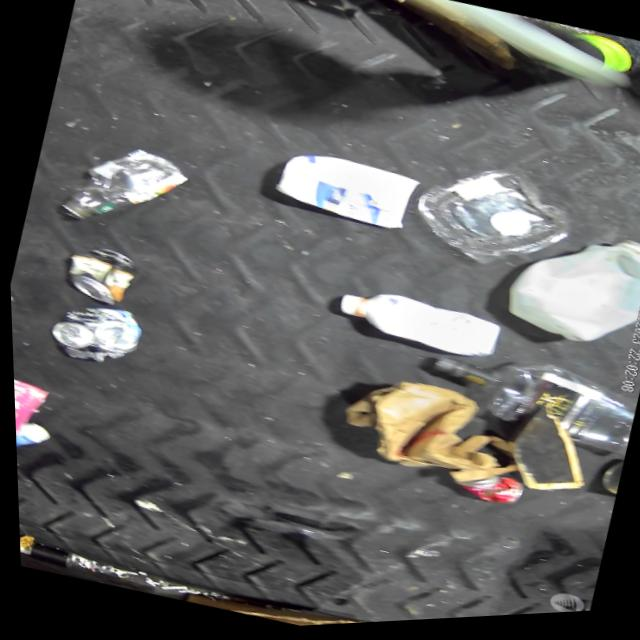can: (262, 141, 427, 247), (40, 292, 144, 377), (53, 238, 141, 314), (447, 467, 526, 518), (11, 365, 53, 452)
milk_jug: (492, 216, 640, 371)
plastic_bottle: (412, 335, 640, 472), (54, 131, 194, 248)
